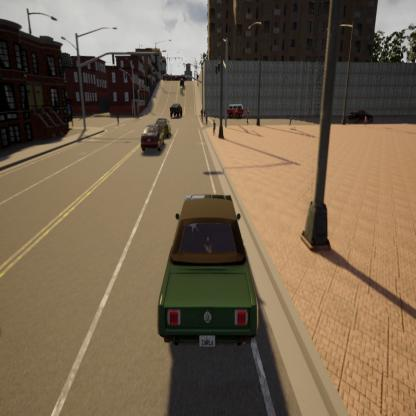Cars: (155, 188, 260, 356), (140, 123, 166, 155), (150, 112, 173, 141), (348, 106, 374, 124), (224, 103, 245, 122), (168, 102, 184, 120), (178, 72, 185, 86), (179, 85, 184, 97)
Pedestrian: (286, 107, 292, 132), (246, 103, 252, 128), (211, 118, 218, 135), (200, 107, 205, 126), (115, 107, 119, 127), (205, 112, 209, 127)
